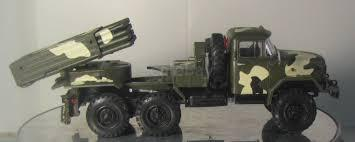MIL_SAM_TEL: (9, 15, 330, 135)
